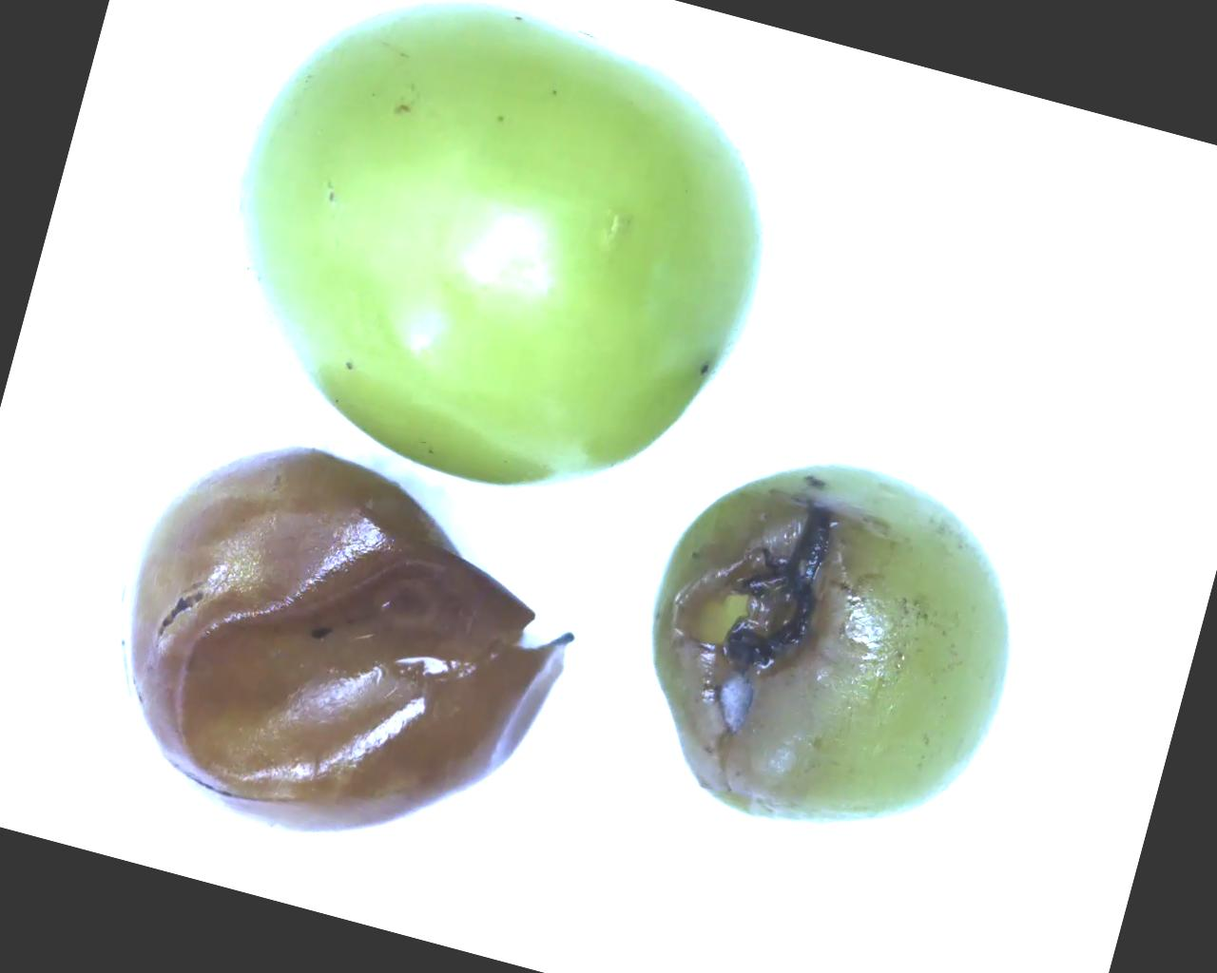Grape Rotten: (69, 404, 608, 893), (603, 419, 1053, 873)
Grape Unripe: (191, 0, 821, 468)
